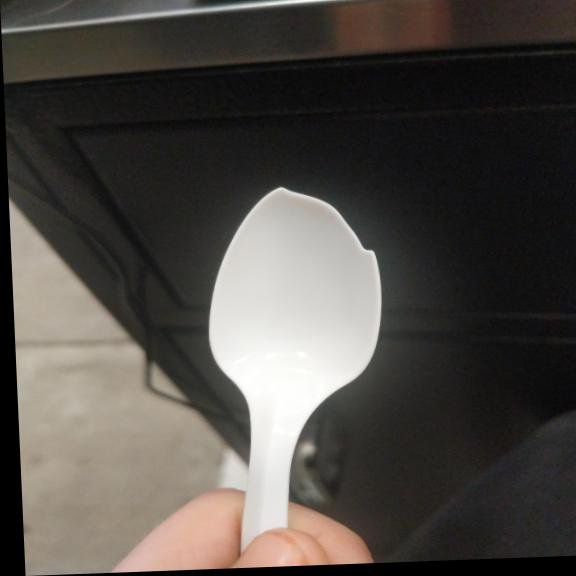Plastik: (210, 188, 381, 550)
